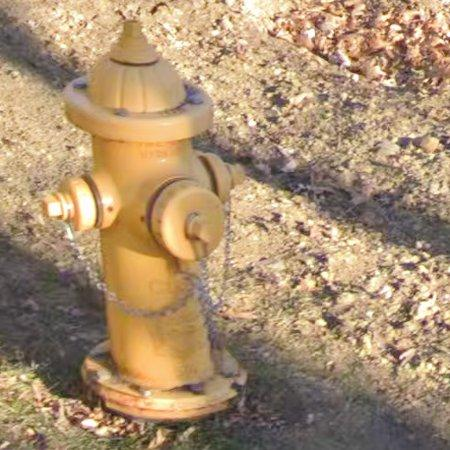a fire hydrant: (43, 20, 246, 422)
